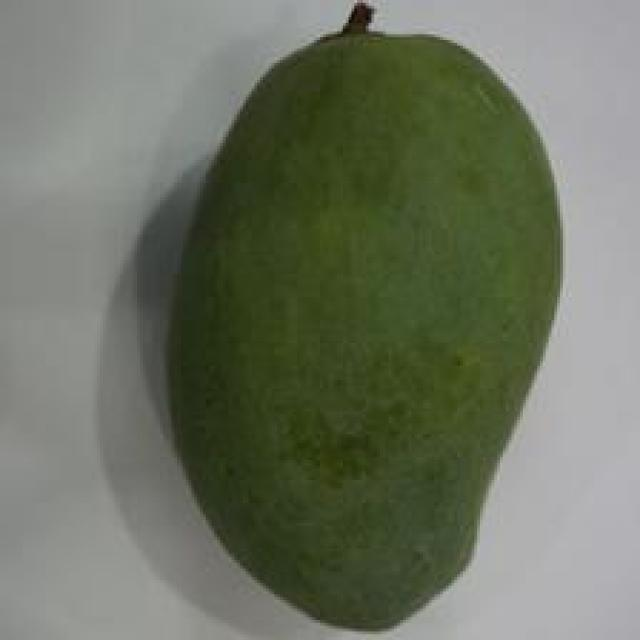Good_Mango: (160, 9, 566, 634)
